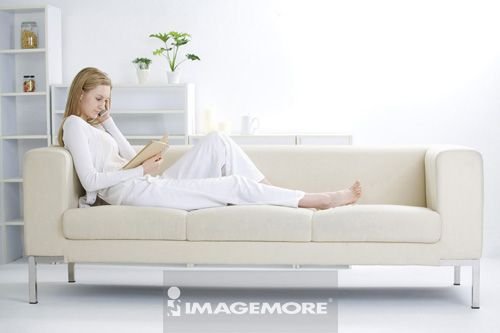talk: (88, 93, 114, 124)
